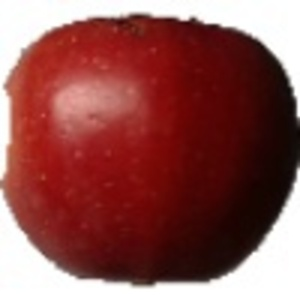maçã braeburn: (2, 17, 299, 287)
